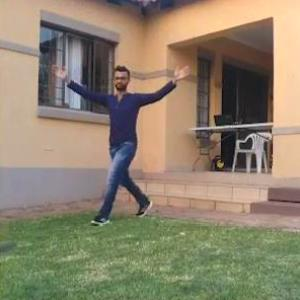takeoff: (64, 64, 204, 222)
